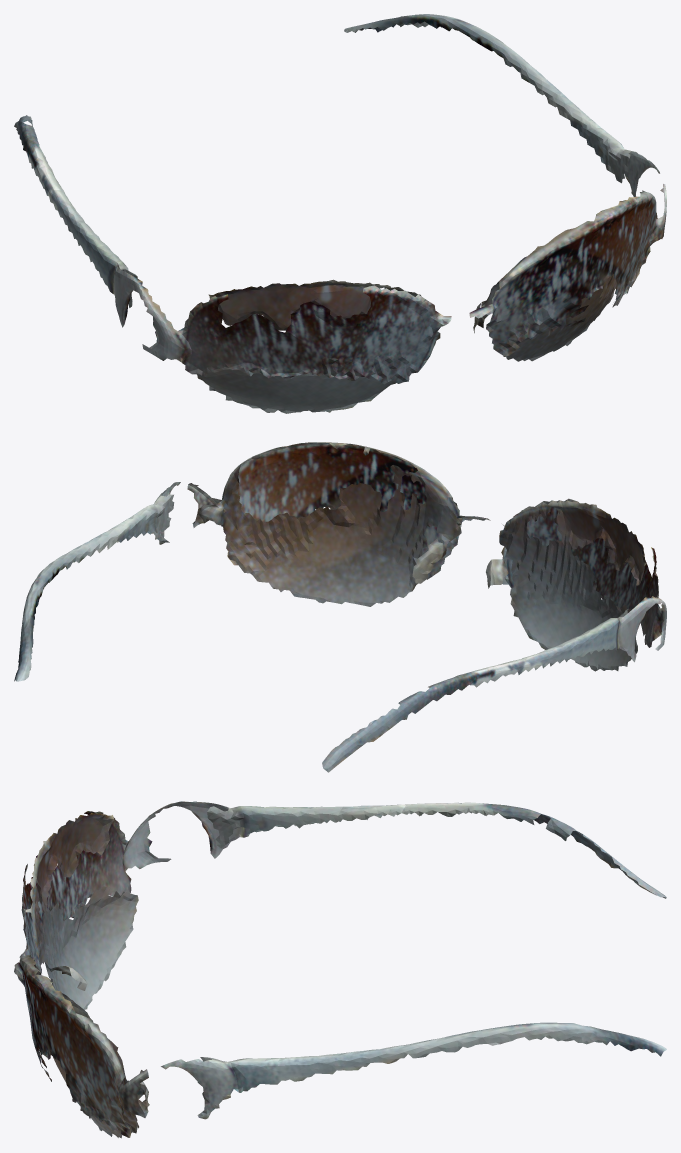
Rendered from scan_align.obj.
3 views of the same model, one above another, from view 1: azimuth 30°, elevation 25°; view 2: azimuth 150°, elevation 25°; view 3: azimuth 270°, elevation 25° (orthographic). The views are drawn at different scales.
Size of the model in its own units: 0.1475 by 0.0417 by 0.1559.
Materials: 1 (1 with a texture image).
